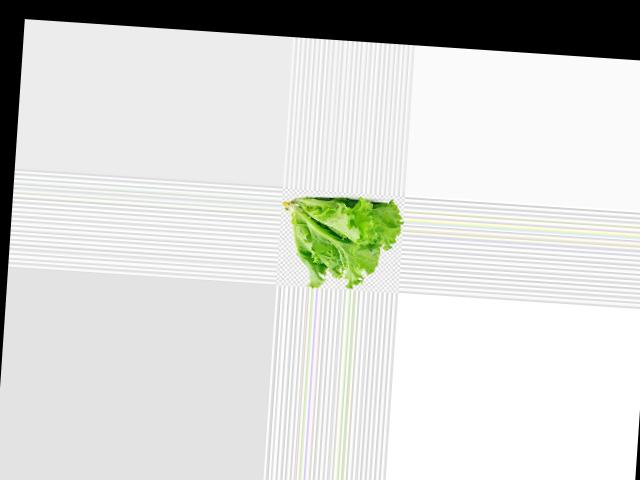lettuce: (276, 195, 403, 292)
